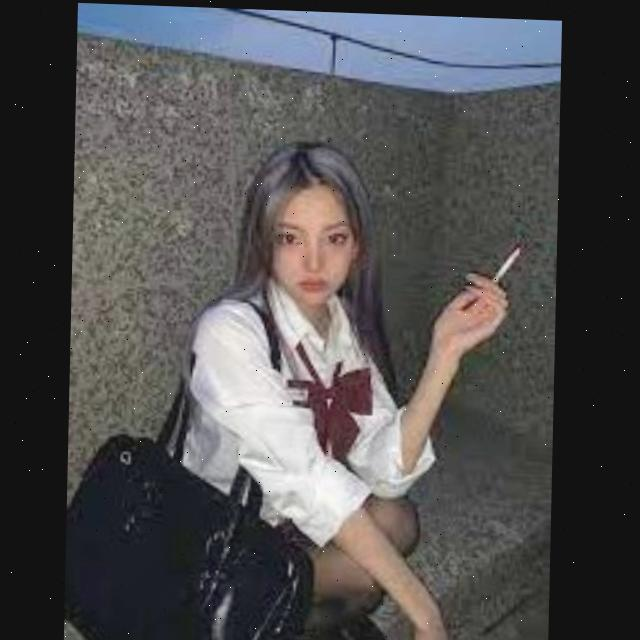cigarette: (494, 243, 521, 279)
